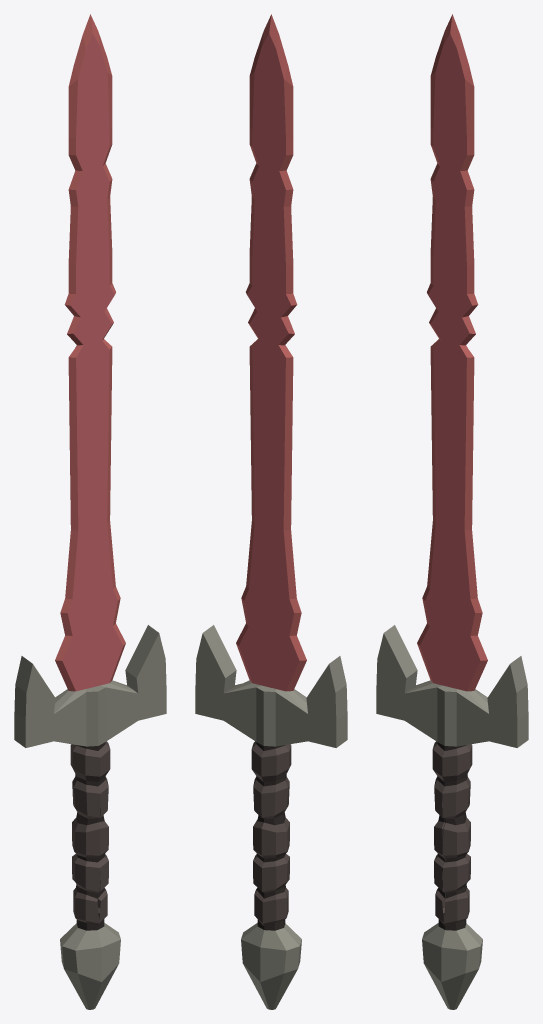
Rendered from SM_Claymore.fbx.
The picture shows the model from 3 angles, left to right: view 1: azimuth 30°, elevation 25°; view 2: azimuth 150°, elevation 25°; view 3: azimuth 330°, elevation 25°; orthographic projection.
Visible parts, largest first — view 1: SM_Claymore; view 2: SM_Claymore; view 3: SM_Claymore.
Boxes of the visible parts, <box> form: SM_Claymore: <box>14,14,166,1009</box>; SM_Claymore: <box>195,14,347,1009</box>; SM_Claymore: <box>376,14,528,1009</box>.
Bounding box in the file's own units: 97.79 × 659 × 27.13.
